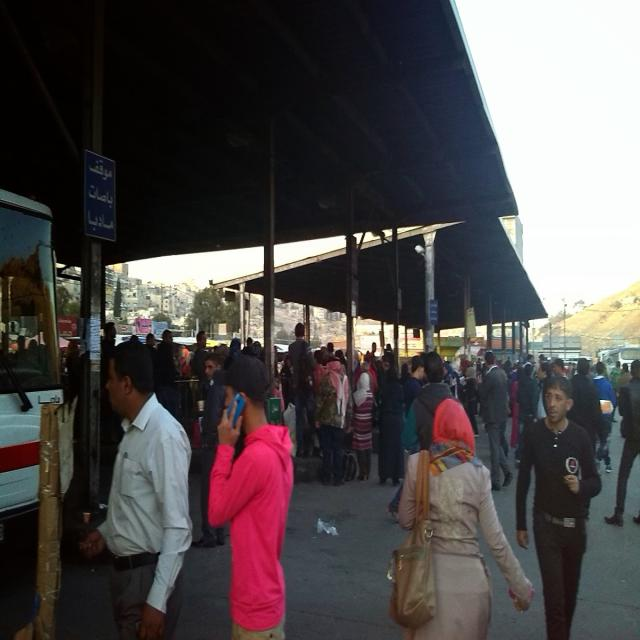body: (384, 393, 536, 640), (80, 337, 196, 640), (206, 352, 296, 640), (514, 372, 604, 639), (66, 386, 118, 581), (189, 350, 228, 551), (384, 354, 426, 524), (398, 350, 464, 456), (602, 357, 640, 527), (270, 357, 324, 470), (312, 357, 354, 488), (475, 350, 514, 491), (566, 357, 608, 458), (377, 363, 405, 488), (0, 332, 66, 378), (590, 362, 617, 474), (320, 341, 394, 381), (288, 322, 312, 435), (498, 354, 598, 379), (515, 363, 539, 465), (156, 329, 181, 423), (439, 348, 486, 393), (460, 366, 480, 438), (509, 365, 525, 449), (66, 338, 82, 416), (396, 362, 413, 433), (144, 332, 160, 403), (178, 344, 194, 410), (535, 361, 551, 422), (609, 360, 622, 423), (354, 357, 376, 391), (100, 321, 118, 361), (222, 336, 242, 371), (615, 362, 634, 393), (508, 370, 520, 418), (458, 392, 481, 417), (552, 358, 570, 380), (193, 330, 208, 350), (251, 340, 264, 360), (273, 345, 280, 379), (242, 337, 254, 356), (211, 343, 229, 355), (129, 334, 139, 342)
